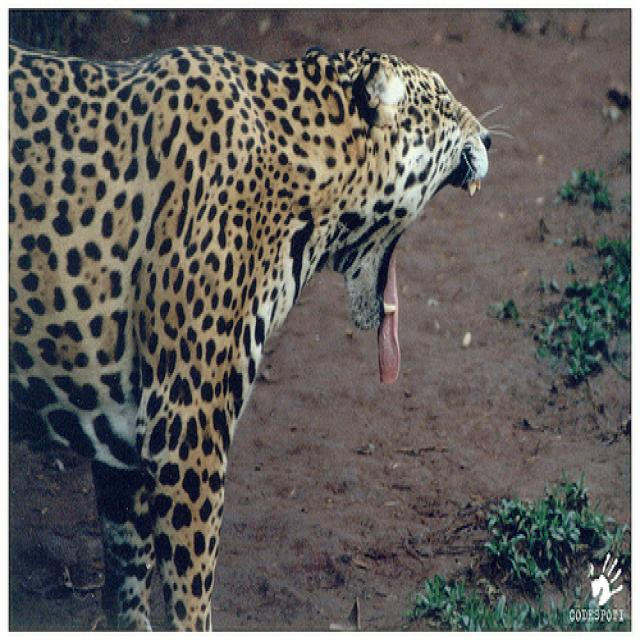Leopard: (8, 41, 500, 628)
